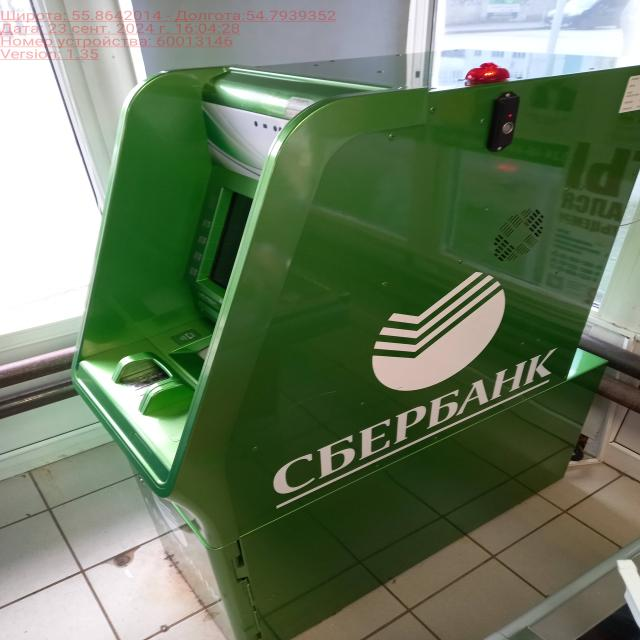bank: (83, 48, 640, 640)
